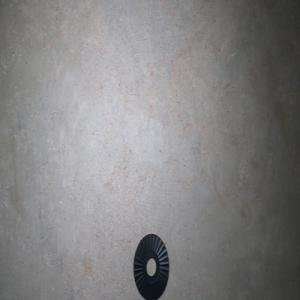Washer: (133, 233, 169, 300)
